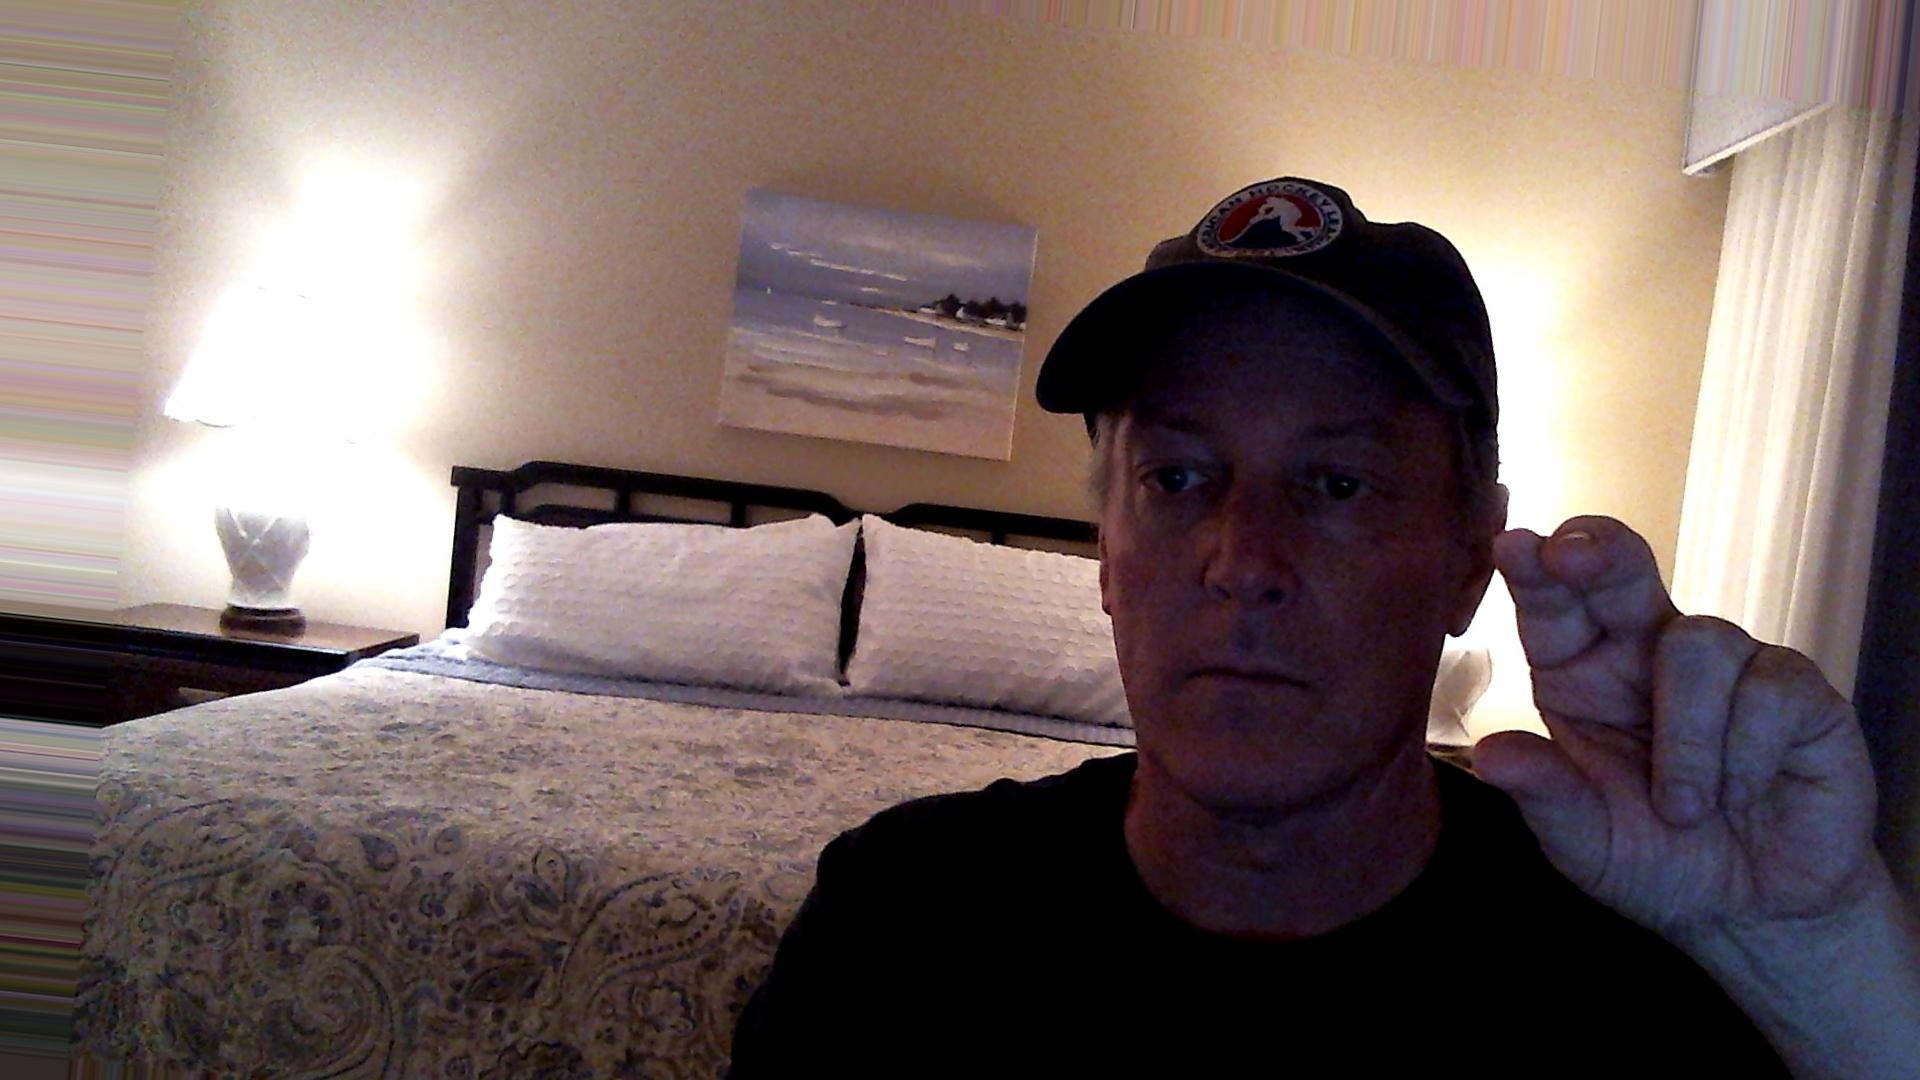No: (1433, 487, 1895, 963)
